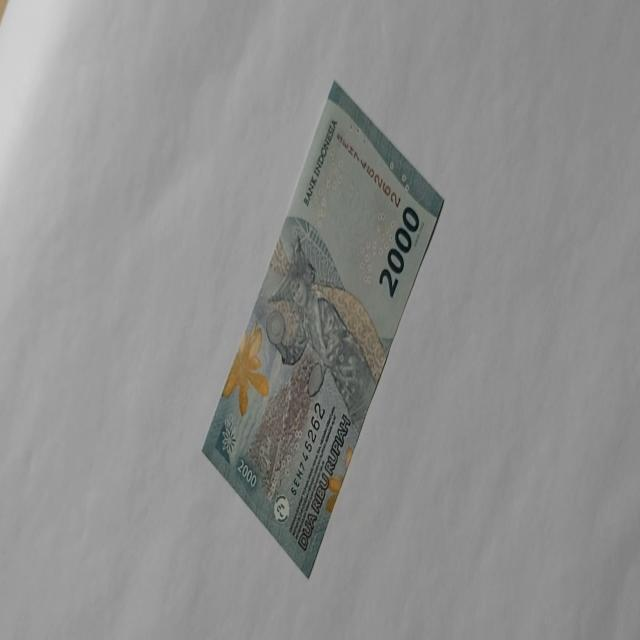dua ribu rupiah: (200, 78, 444, 579)
